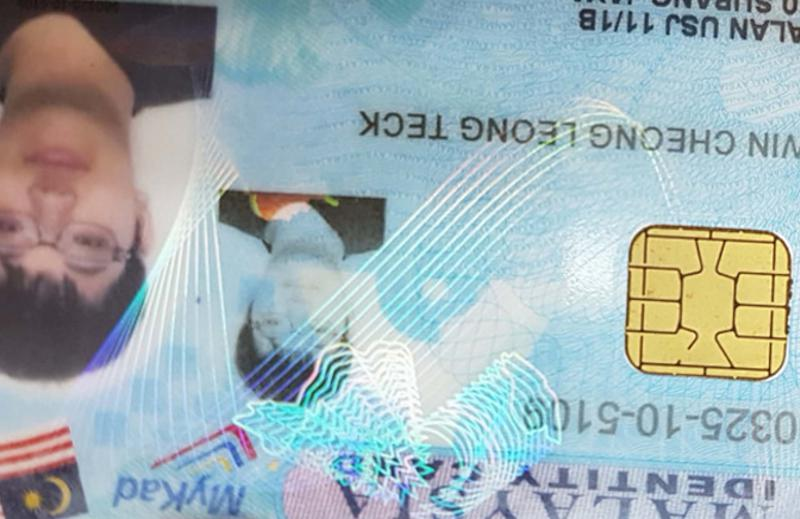hologram: (391, 150, 549, 336)
